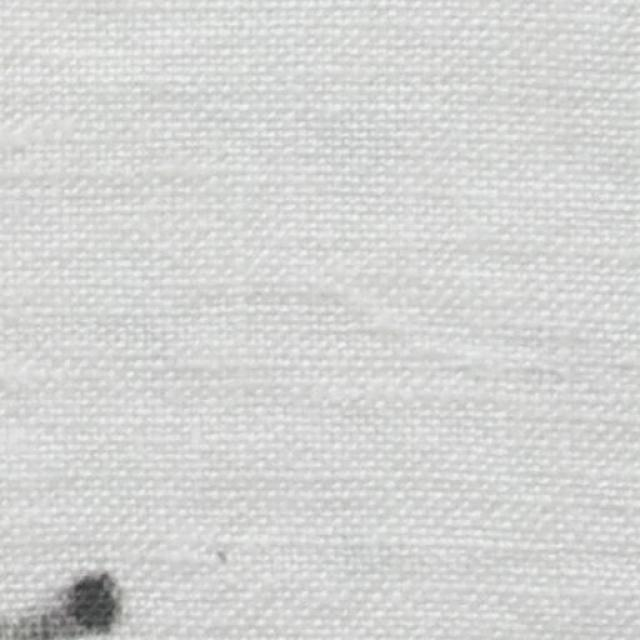Stain: (0, 577, 127, 640)
